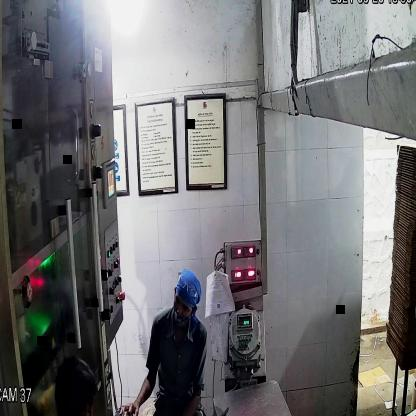no_goggles: (170, 294, 194, 317)
